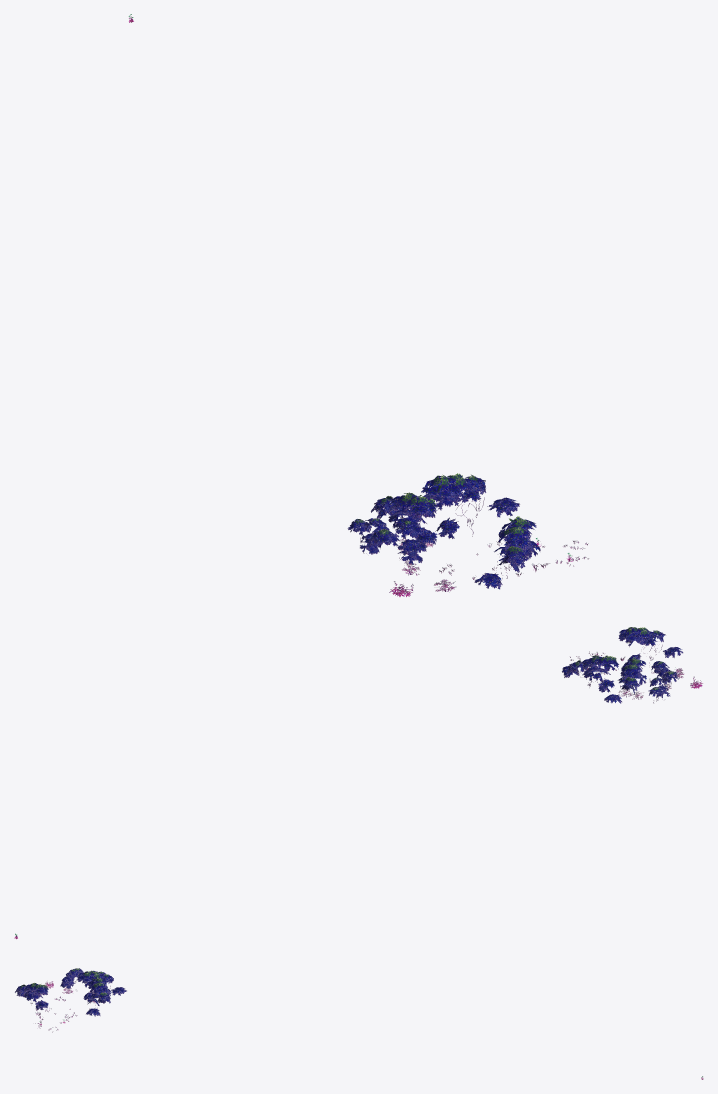
File: boos_zhibei_1.FBX
3 renders of one model, top to bottom at view 1: azimuth 30°, elevation 25°; view 2: azimuth 150°, elevation 25°; view 3: azimuth 270°, elevation 25°, orthographic. The views are drawn at different scales.
Parts seen in each view (by area): view 1: boos_zhibei_1; view 2: boos_zhibei_1; view 3: boos_zhibei_1.
Part boxes in pixels (left/top/right/bottom): boos_zhibei_1: left=128, top=14, right=588, bottom=596; boos_zhibei_1: left=14, top=627, right=702, bottom=939; boos_zhibei_1: left=15, top=968, right=703, bottom=1079.
Size of the model in its own units: 8822 by 1346 by 26553.
